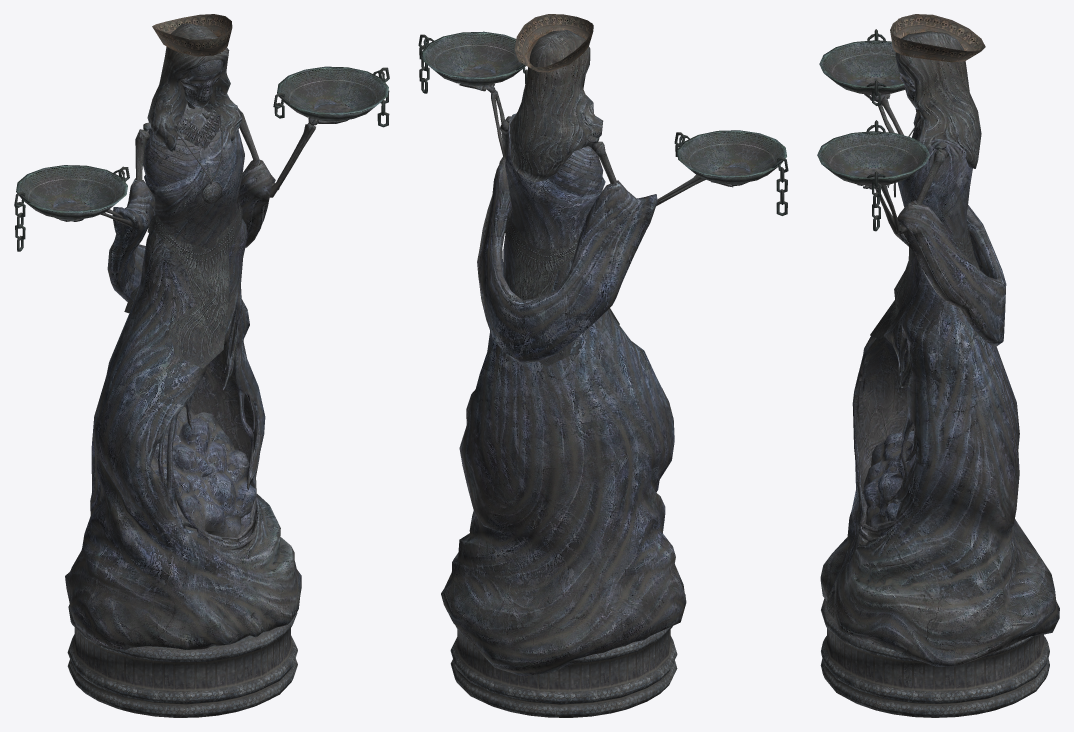
Rendered from Statue.fbx.
The picture shows the model from 3 angles, left to right: view 1: azimuth 30°, elevation 25°; view 2: azimuth 150°, elevation 25°; view 3: azimuth 270°, elevation 25°; orthographic projection.
Parts seen in each view (by area): view 1: LV_Carcerem_Object_Statue_SM_NWCSTE; view 2: LV_Carcerem_Object_Statue_SM_NWCSTE; view 3: LV_Carcerem_Object_Statue_SM_NWCSTE.
Boxes of the visible parts, x1,y1,x2,y2 form: LV_Carcerem_Object_Statue_SM_NWCSTE: (14, 14, 389, 717); LV_Carcerem_Object_Statue_SM_NWCSTE: (418, 14, 788, 717); LV_Carcerem_Object_Statue_SM_NWCSTE: (817, 14, 1059, 717).
Size of the model in its own units: 343 by 565 by 192.
